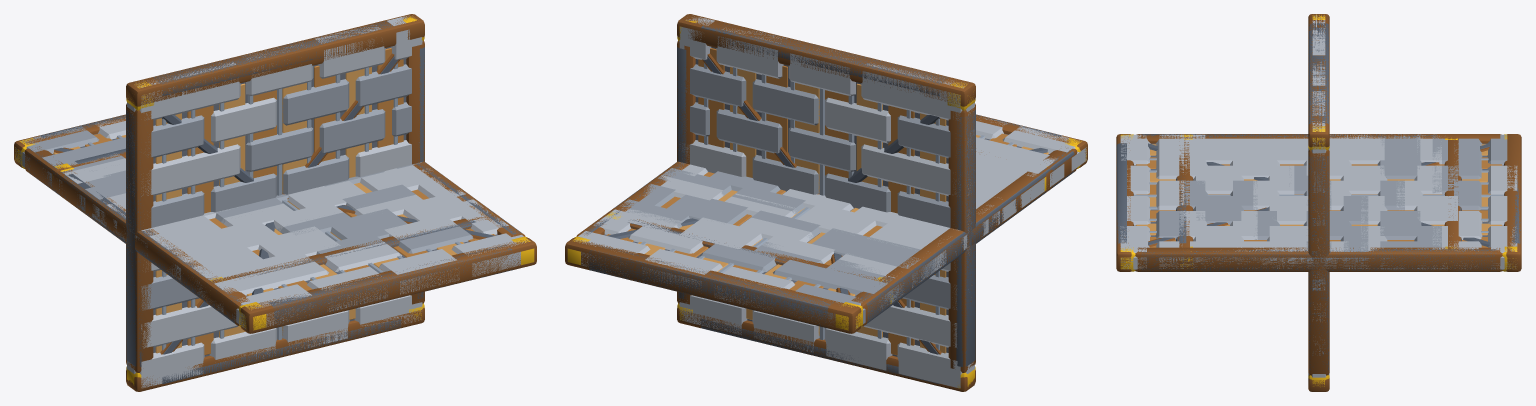
Rendered from constructions.glb.
3 renders of one model, left to right at view 1: azimuth 30°, elevation 25°; view 2: azimuth 150°, elevation 25°; view 3: azimuth 270°, elevation 25°, orthographic. The views are drawn at different scales.
Parts seen in each view (by area): view 1: mur_pierre, mur_bois, rampe_pierre, rampe_bois, sol_pierre, mur_metal, rampe_metal, sol_bois, sol_metal; view 2: mur_pierre, rampe_pierre, mur_bois, sol_pierre, mur_metal, rampe_bois, rampe_metal, sol_bois, sol_metal; view 3: rampe_pierre, sol_pierre, rampe_bois, mur_bois, rampe_metal, mur_metal, sol_bois, mur_pierre, sol_metal.
Part boxes in pixels (x1,y1,x2,y2): mur_pierre: (127,15,422,388); mur_bois: (126,14,424,391); rampe_pierre: (15,118,527,328); rampe_bois: (14,114,536,333); sol_pierre: (55,153,490,297); mur_metal: (126,16,424,385); rampe_metal: (15,114,534,330); sol_bois: (49,151,499,305); sol_metal: (52,148,492,297); mur_pierre: (679,16,974,388); rampe_pierre: (576,118,1086,327); mur_bois: (677,14,975,391); sol_pierre: (606,150,1046,303); mur_metal: (677,20,975,388); rampe_bois: (565,114,1087,333); rampe_metal: (567,114,1086,330); sol_bois: (602,151,1052,304); sol_metal: (606,163,1048,303); rampe_pierre: (1120,134,1517,271); sol_pierre: (1180,134,1457,268); rampe_bois: (1116,134,1521,271); mur_bois: (1308,14,1329,391); rampe_metal: (1116,134,1520,271); mur_metal: (1308,14,1329,387); sol_bois: (1176,134,1461,271); mur_pierre: (1308,15,1329,377); sol_metal: (1176,134,1461,271).
Size of the model in its own units: 4 by 4 by 5.66.
